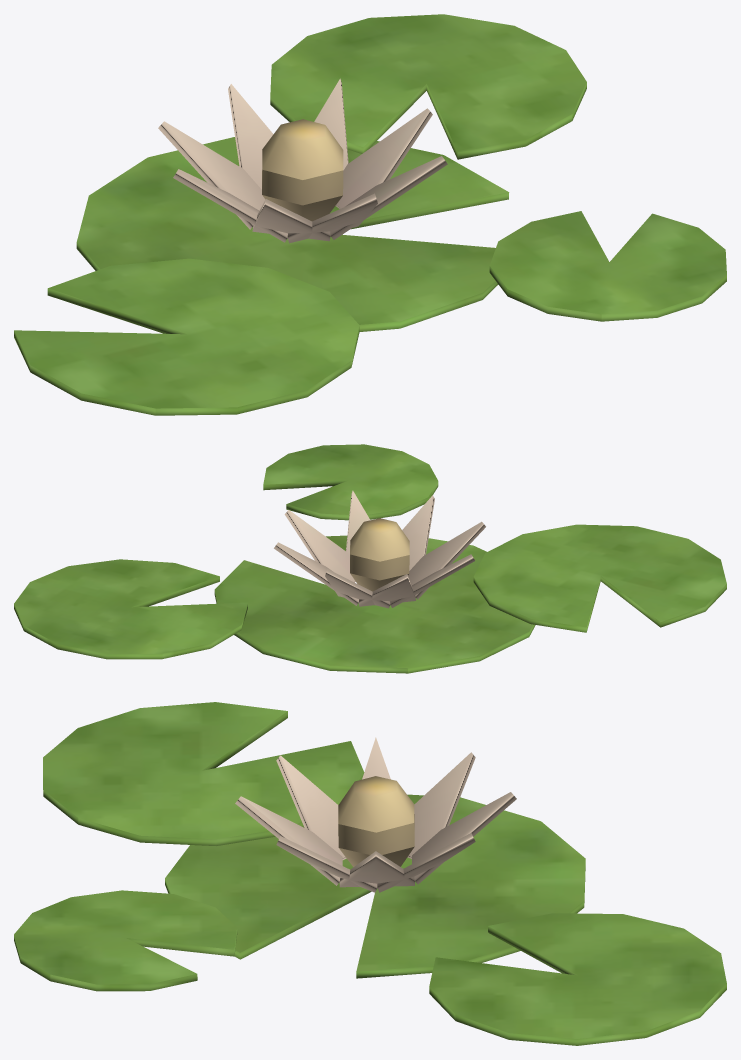
File: lily.glb
The picture shows the model from 3 angles, top to bottom: view 1: azimuth 30°, elevation 25°; view 2: azimuth 150°, elevation 25°; view 3: azimuth 270°, elevation 25°; orthographic projection. The views are drawn at different scales.
Visible parts, largest first — view 1: pads, flower, flower_centre; view 2: pads, flower, flower_centre; view 3: pads, flower, flower_centre.
Part boxes in pixels (x1=…): pads: x1=14, y1=14, x2=726, y2=415; flower: x1=158, y1=78, x2=447, y2=243; flower_centre: x1=262, y1=119, x2=343, y2=221; pads: x1=14, y1=444, x2=726, y2=673; flower: x1=274, y1=490, x2=485, y2=608; flower_centre: x1=350, y1=518, x2=409, y2=591; pads: x1=14, y1=702, x2=726, y2=1045; flower: x1=235, y1=737, x2=516, y2=892; flower_centre: x1=338, y1=776, x2=414, y2=866.
Size of the model in its own units: 0.6295 by 0.0933 by 0.5683.
2 materials, 2 textured.
